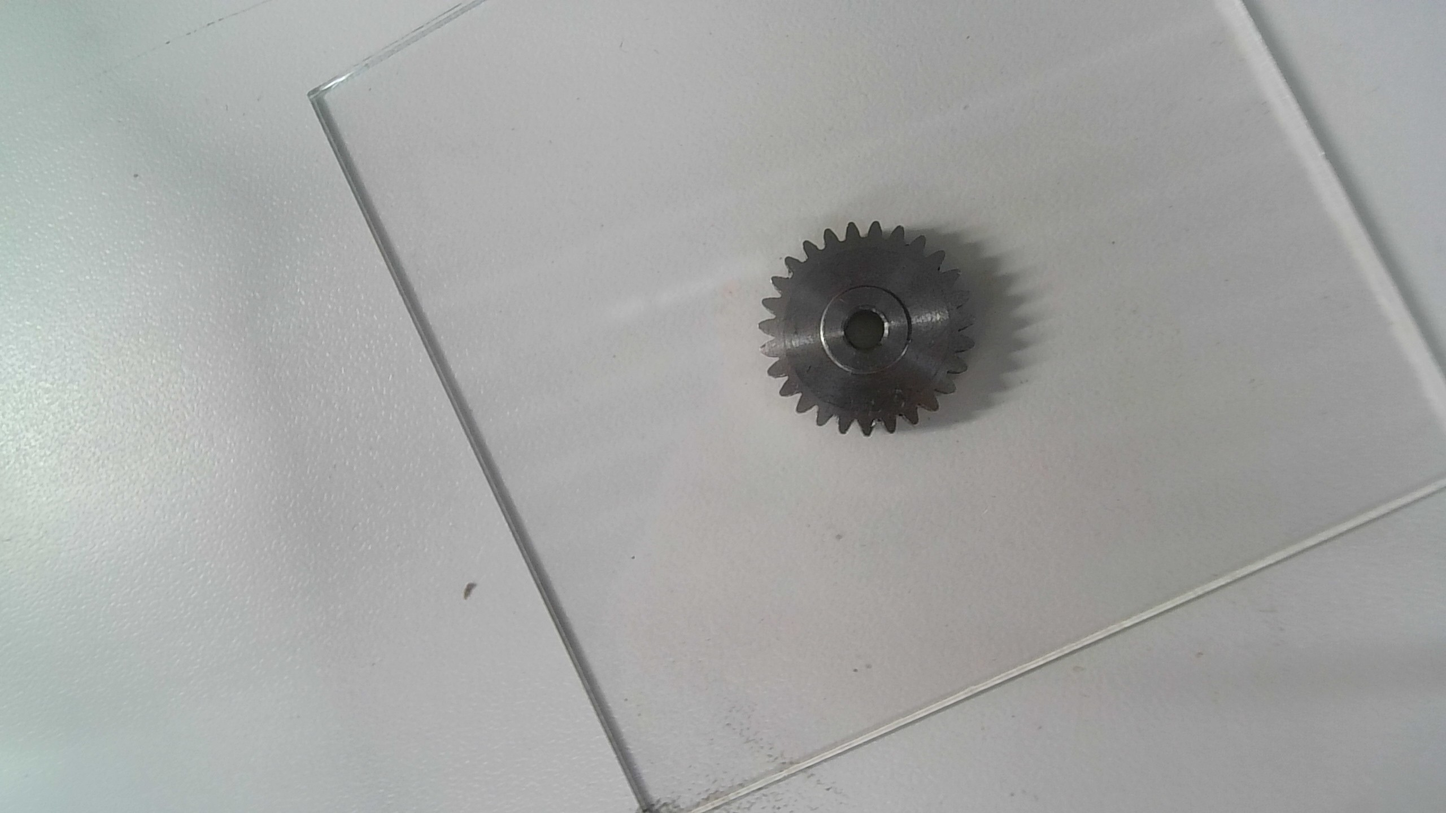gear: (761, 216, 975, 442)
